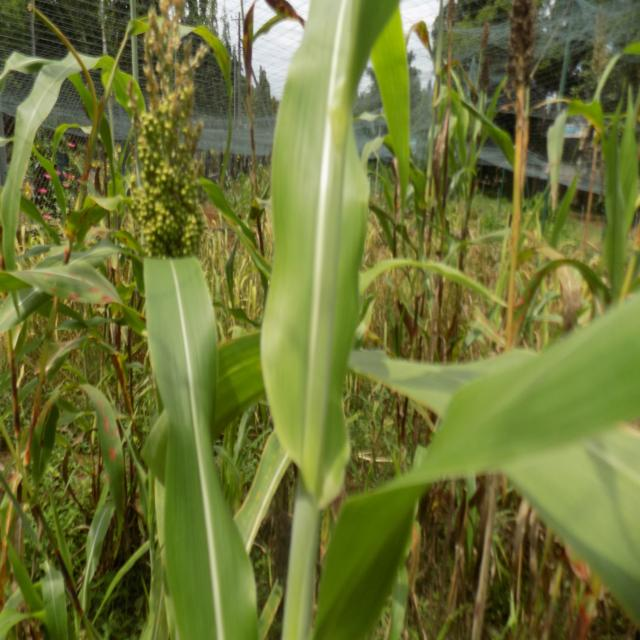millet_healthy: (260, 0, 389, 500), (139, 247, 262, 639)
